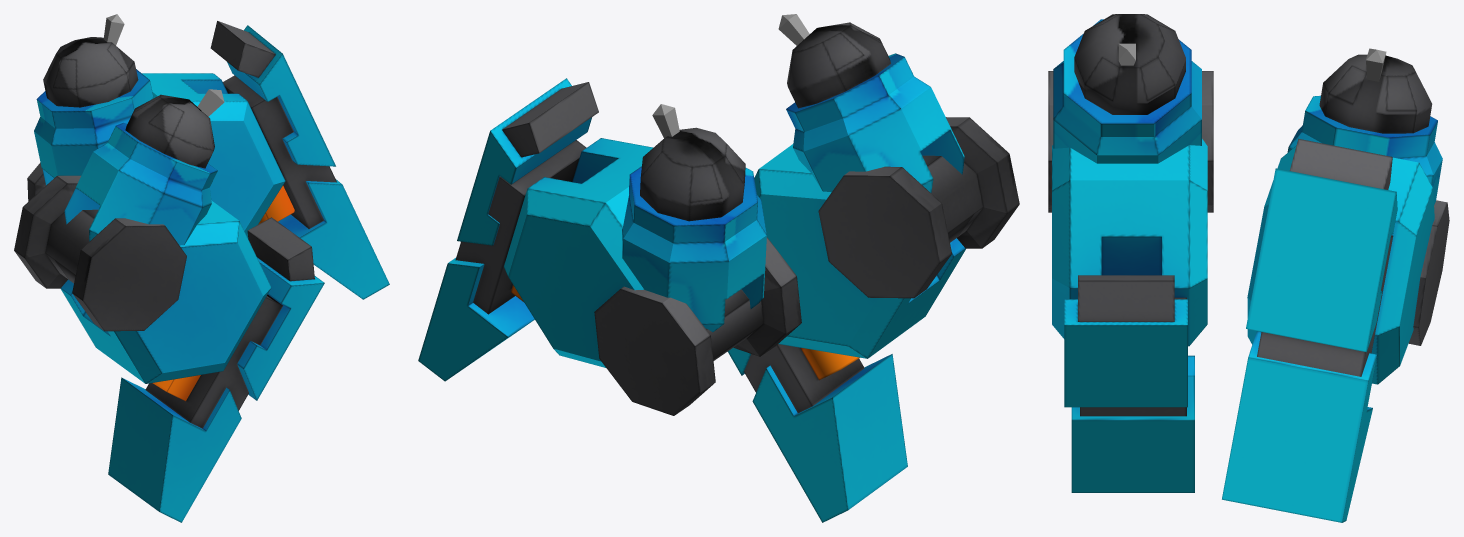
Rendered from Bottom_Running24.obj.
The picture shows the model from 3 angles, left to right: view 1: azimuth 30°, elevation 25°; view 2: azimuth 150°, elevation 25°; view 3: azimuth 270°, elevation 25°; orthographic projection. The views are drawn at different scales.
Parts seen in each view (by area): view 1: Object013, Object014, Object011, Object012, Object009, Object010, Bone023, Bone006; view 2: Object013, Object010, Object009, Object011, Object012, Object014; view 3: Object011, Object014, Object013, Object012, Object010, Object009, Bone006.
Boxes of the visible parts, x1=… form: Object013: x1=14, y1=175, x2=271, y2=383; Object014: x1=108, y1=217, x2=324, y2=522; Object011: x1=210, y1=21, x2=389, y2=299; Object012: x1=64, y1=94, x2=217, y2=245; Object009: x1=34, y1=37, x2=153, y2=185; Object010: x1=27, y1=73, x2=285, y2=238; Bone023: x1=197, y1=89, x2=224, y2=116; Bone006: x1=103, y1=14, x2=124, y2=45; Object013: x1=754, y1=117, x2=1019, y2=358; Object010: x1=504, y1=138, x2=801, y2=415; Object009: x1=622, y1=127, x2=766, y2=332; Object011: x1=418, y1=78, x2=598, y2=381; Object012: x1=786, y1=22, x2=964, y2=192; Object014: x1=727, y1=344, x2=907, y2=522; Object011: x1=1222, y1=138, x2=1397, y2=522; Object014: x1=1064, y1=275, x2=1194, y2=492; Object013: x1=1048, y1=71, x2=1213, y2=346; Object012: x1=1053, y1=14, x2=1201, y2=163; Object010: x1=1247, y1=145, x2=1449, y2=384; Object009: x1=1287, y1=54, x2=1442, y2=205; Bone006: x1=1366, y1=48, x2=1386, y2=81.
Bounding box in the file's own units: 125 × 122 × 91.76.
